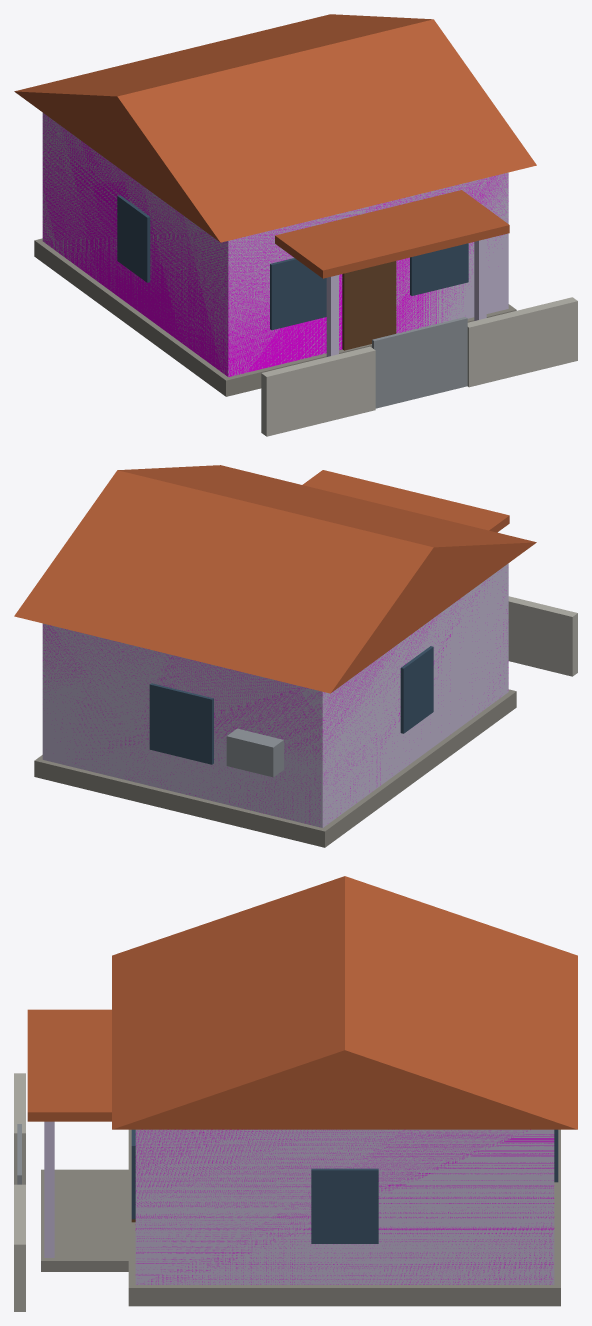
Rendered from House_1S_06.glb.
The picture shows the model from 3 angles, top to bottom: view 1: azimuth 30°, elevation 25°; view 2: azimuth 150°, elevation 25°; view 3: azimuth 270°, elevation 25°; orthographic projection. The views are drawn at different scales.
Visible parts, largest first — view 1: House_1S_06, House_1S_06_COL; view 2: House_1S_06, House_1S_06_COL; view 3: House_1S_06, House_1S_06_COL.
Part boxes in pixels (left/top/right/bottom): House_1S_06: left=14, top=14, right=577, bottom=436; House_1S_06_COL: left=42, top=113, right=508, bottom=376; House_1S_06: left=14, top=465, right=577, bottom=847; House_1S_06_COL: left=42, top=580, right=508, bottom=826; House_1S_06: left=14, top=876, right=577, bottom=1311; House_1S_06_COL: left=135, top=1129, right=554, bottom=1284.
Bounding box in the file's own units: 6.1 × 4.3 × 8.35.
